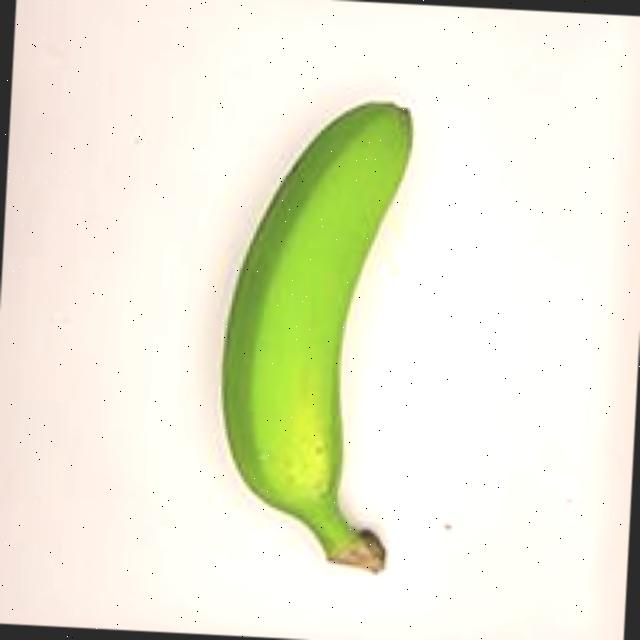Unripe: (192, 69, 466, 608)
